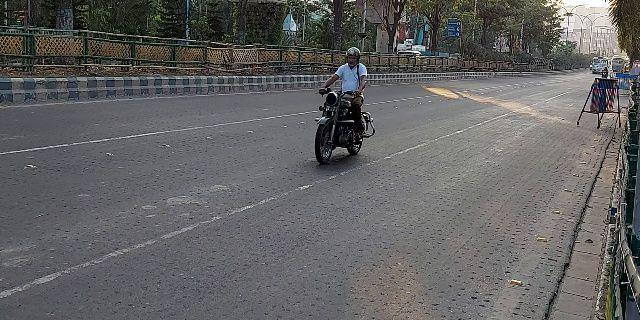Motorbike: (303, 45, 375, 170)
